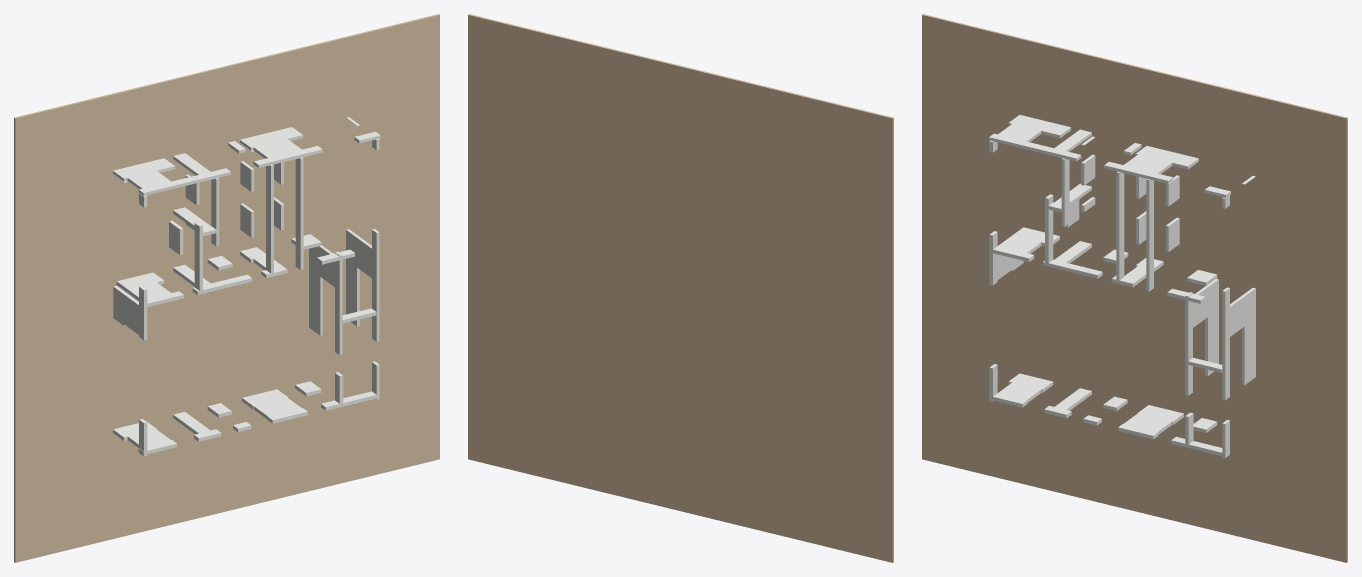
The model's file is img14_gemini.glb.
The picture shows the model from 3 angles, left to right: view 1: azimuth 30°, elevation 25°; view 2: azimuth 150°, elevation 25°; view 3: azimuth 330°, elevation 25°; orthographic projection.
Visible parts, largest first — view 1: floor, wall_4, wall_0, wall_23, wall_1, wall_19, wall_21, wall_12, wall_7, wall_14, wall_18, wall_17 (+6 smaller); view 2: floor; view 3: floor, wall_4, wall_0, wall_23, wall_1, wall_21, wall_19, wall_7, wall_10, wall_14, wall_15, wall_18 (+6 smaller).
Part boxes in pixels (x1=…): floor: x1=14, y1=14, x2=439, y2=562; wall_4: x1=346, y1=229, x2=379, y2=341; wall_0: x1=113, y1=153, x2=230, y2=196; wall_23: x1=309, y1=245, x2=342, y2=355; wall_1: x1=228, y1=127, x2=322, y2=167; wall_19: x1=240, y1=143, x2=273, y2=276; wall_21: x1=273, y1=157, x2=303, y2=270; wall_12: x1=113, y1=286, x2=147, y2=340; wall_7: x1=242, y1=389, x2=307, y2=423; wall_14: x1=116, y1=272, x2=183, y2=307; wall_18: x1=173, y1=256, x2=252, y2=294; wall_17: x1=169, y1=220, x2=202, y2=293; floor: x1=468, y1=14, x2=893, y2=562; floor: x1=922, y1=14, x2=1347, y2=562; wall_4: x1=1222, y1=287, x2=1255, y2=400; wall_0: x1=989, y1=115, x2=1091, y2=161; wall_23: x1=1185, y1=278, x2=1218, y2=395; wall_1: x1=1104, y1=143, x2=1198, y2=183; wall_21: x1=1146, y1=175, x2=1179, y2=291; wall_19: x1=1116, y1=171, x2=1146, y2=283; wall_7: x1=1118, y1=405, x2=1183, y2=439; wall_10: x1=989, y1=373, x2=1053, y2=407; wall_14: x1=993, y1=227, x2=1059, y2=261; wall_15: x1=1061, y1=136, x2=1095, y2=226; wall_18: x1=1043, y1=241, x2=1128, y2=278.
Bounding box in the file's own units: 20 × 20 × 2.6.
